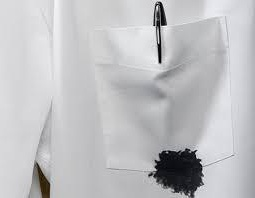ink: (155, 151, 203, 191)
